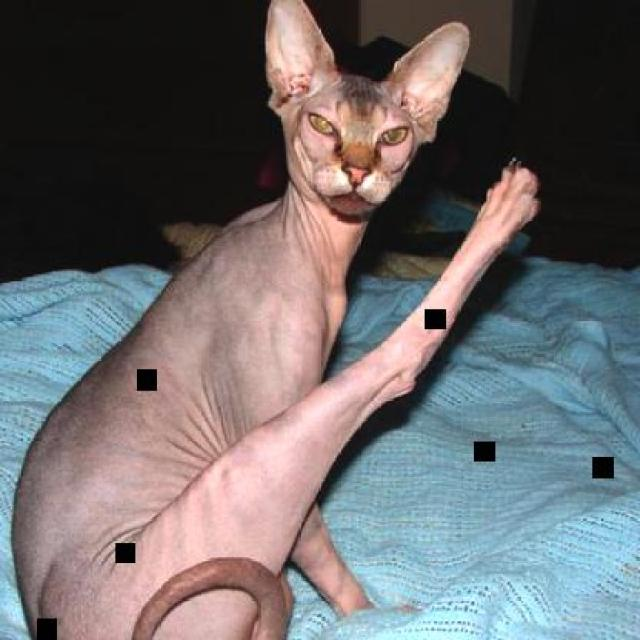cat: (9, 0, 542, 638)
